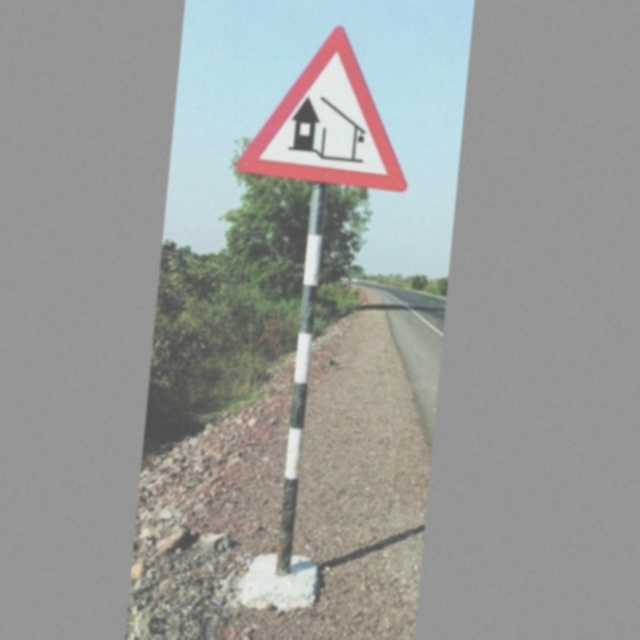Barrier_Ahead: (240, 21, 419, 189)
